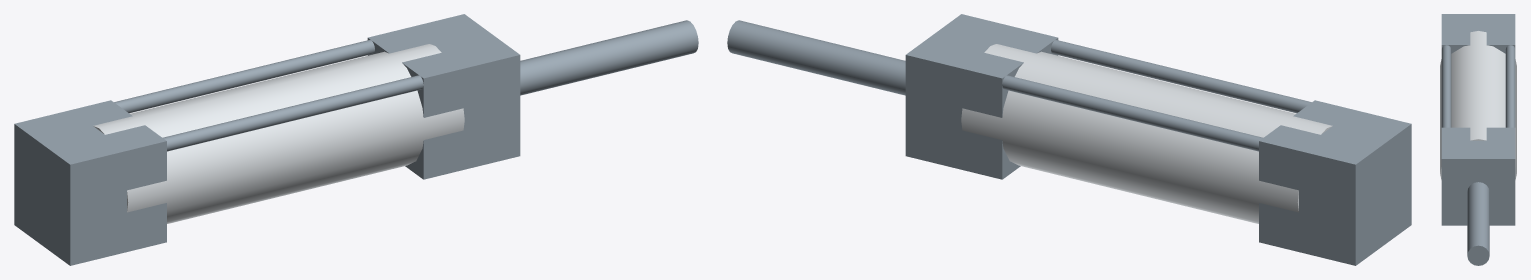
3 views of the same model, side by side, from view 1: azimuth 30°, elevation 25°; view 2: azimuth 150°, elevation 25°; view 3: azimuth 270°, elevation 25° (orthographic). The views are drawn at different scales.
Parts seen in each view (by area): view 1: 亚德客,气缸,SC50x200S,; view 2: 亚德客,气缸,SC50x200S,; view 3: 亚德客,气缸,SC50x200S,.
Part boxes in pixels (<box>): 亚德客,气缸,SC50x200S,: <box>14,14,698,265</box>; 亚德客,气缸,SC50x200S,: <box>727,14,1411,265</box>; 亚德客,气缸,SC50x200S,: <box>1440,14,1516,265</box>.
Size of the model in its own units: 1.54 by 0.24 by 0.24.
